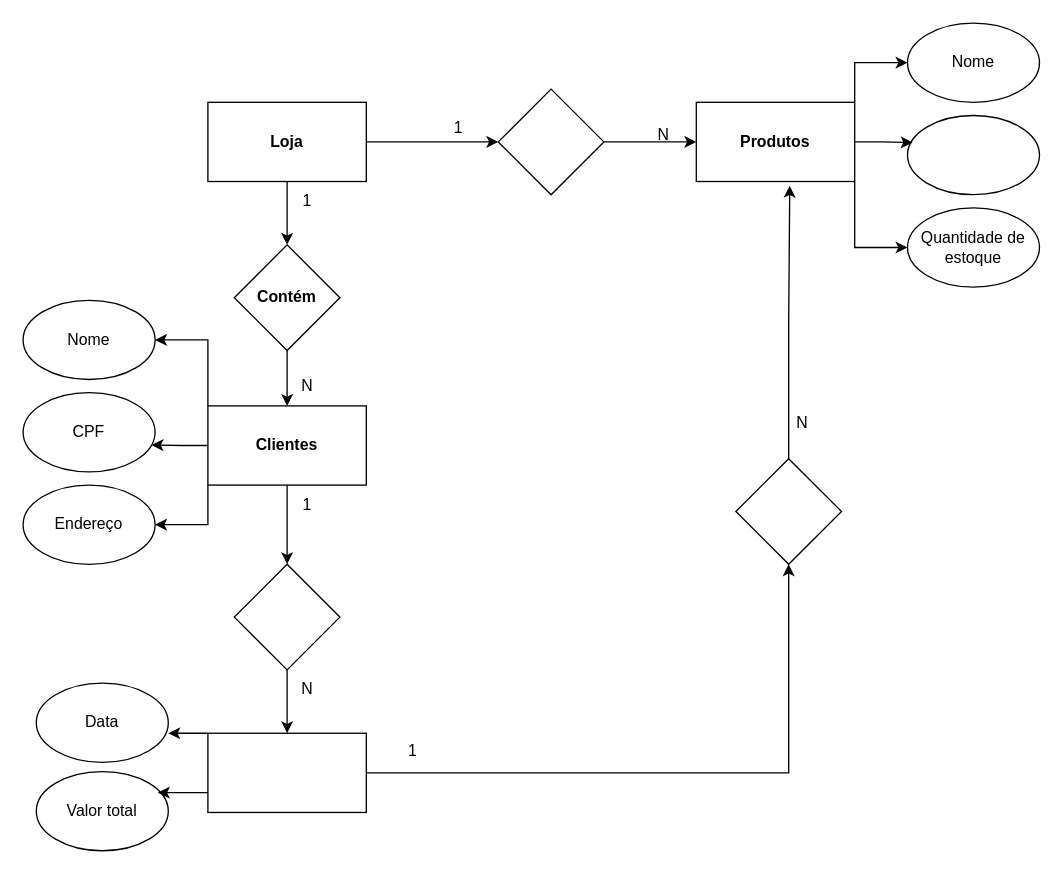
This 1063x874 diagram has some shape labels left out. The shapes that lost their labels are listed below. From the top down, each one's centre as x and y in pixels, then its label:
At [550,141]: "Vende".
At [973,154]: "Preço".
At [788,510]: "Inclui".
At [286,616]: "Faz".
At [286,772]: "Compras".
